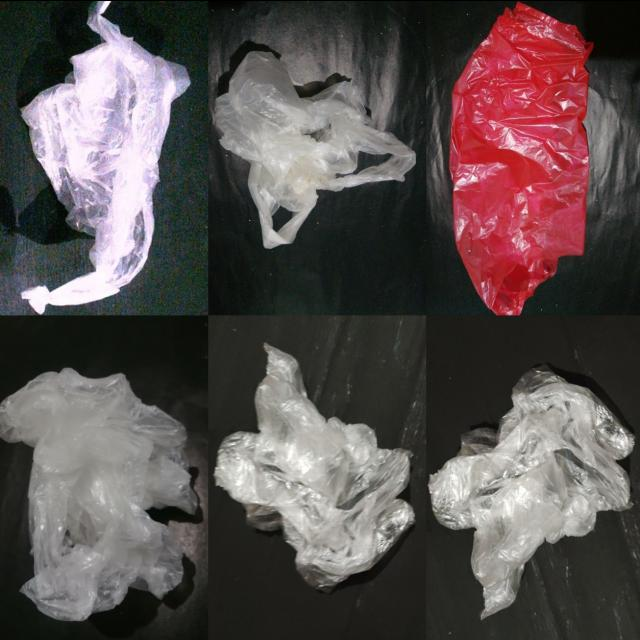plastik: (21, 0, 190, 313), (428, 365, 634, 617), (0, 368, 197, 619), (214, 343, 414, 590), (450, 3, 593, 314), (214, 50, 416, 248)
